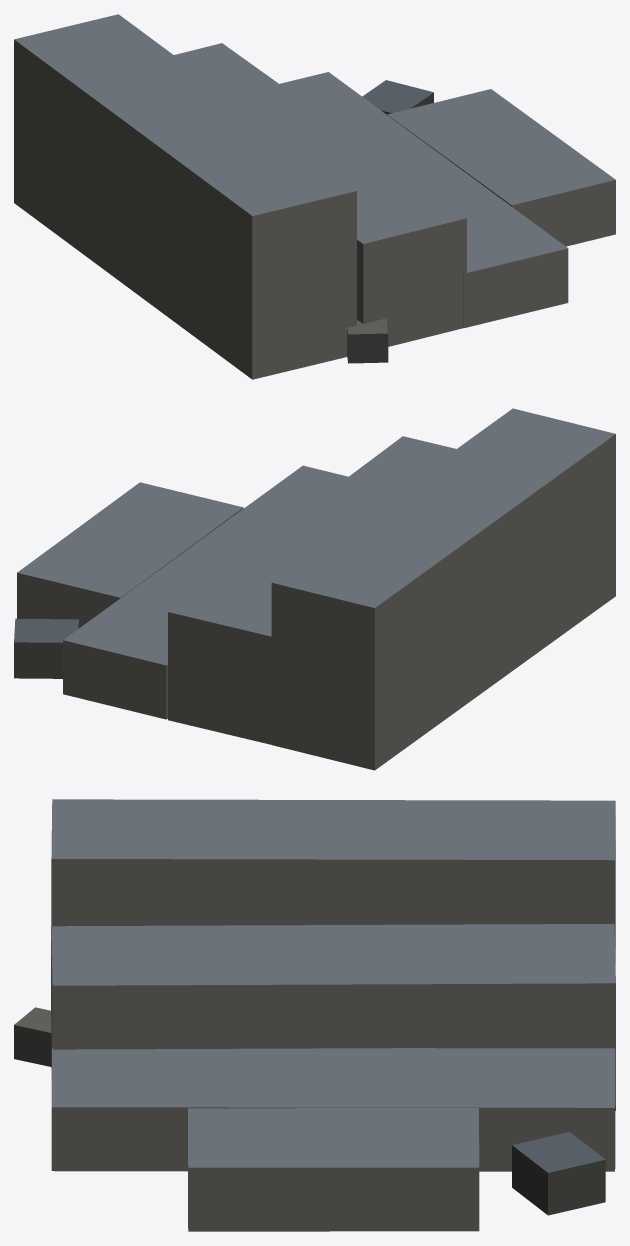
Rendered from stone-steps.glb.
3 views of the same model, one above another, from view 1: azimuth 30°, elevation 25°; view 2: azimuth 150°, elevation 25°; view 3: azimuth 270°, elevation 25° (orthographic). The views are drawn at different scales.
Visible parts, largest first — view 1: StoneSteps; view 2: StoneSteps; view 3: StoneSteps.
Boxes of the visible parts, box(x1,y1,x2,y2) form: StoneSteps: box(14, 14, 615, 379); StoneSteps: box(14, 408, 615, 770); StoneSteps: box(14, 799, 615, 1231).
Size of the model in its own units: 1.21 by 0.45 by 1.28.
Materials: 1 (1 with a texture image).
